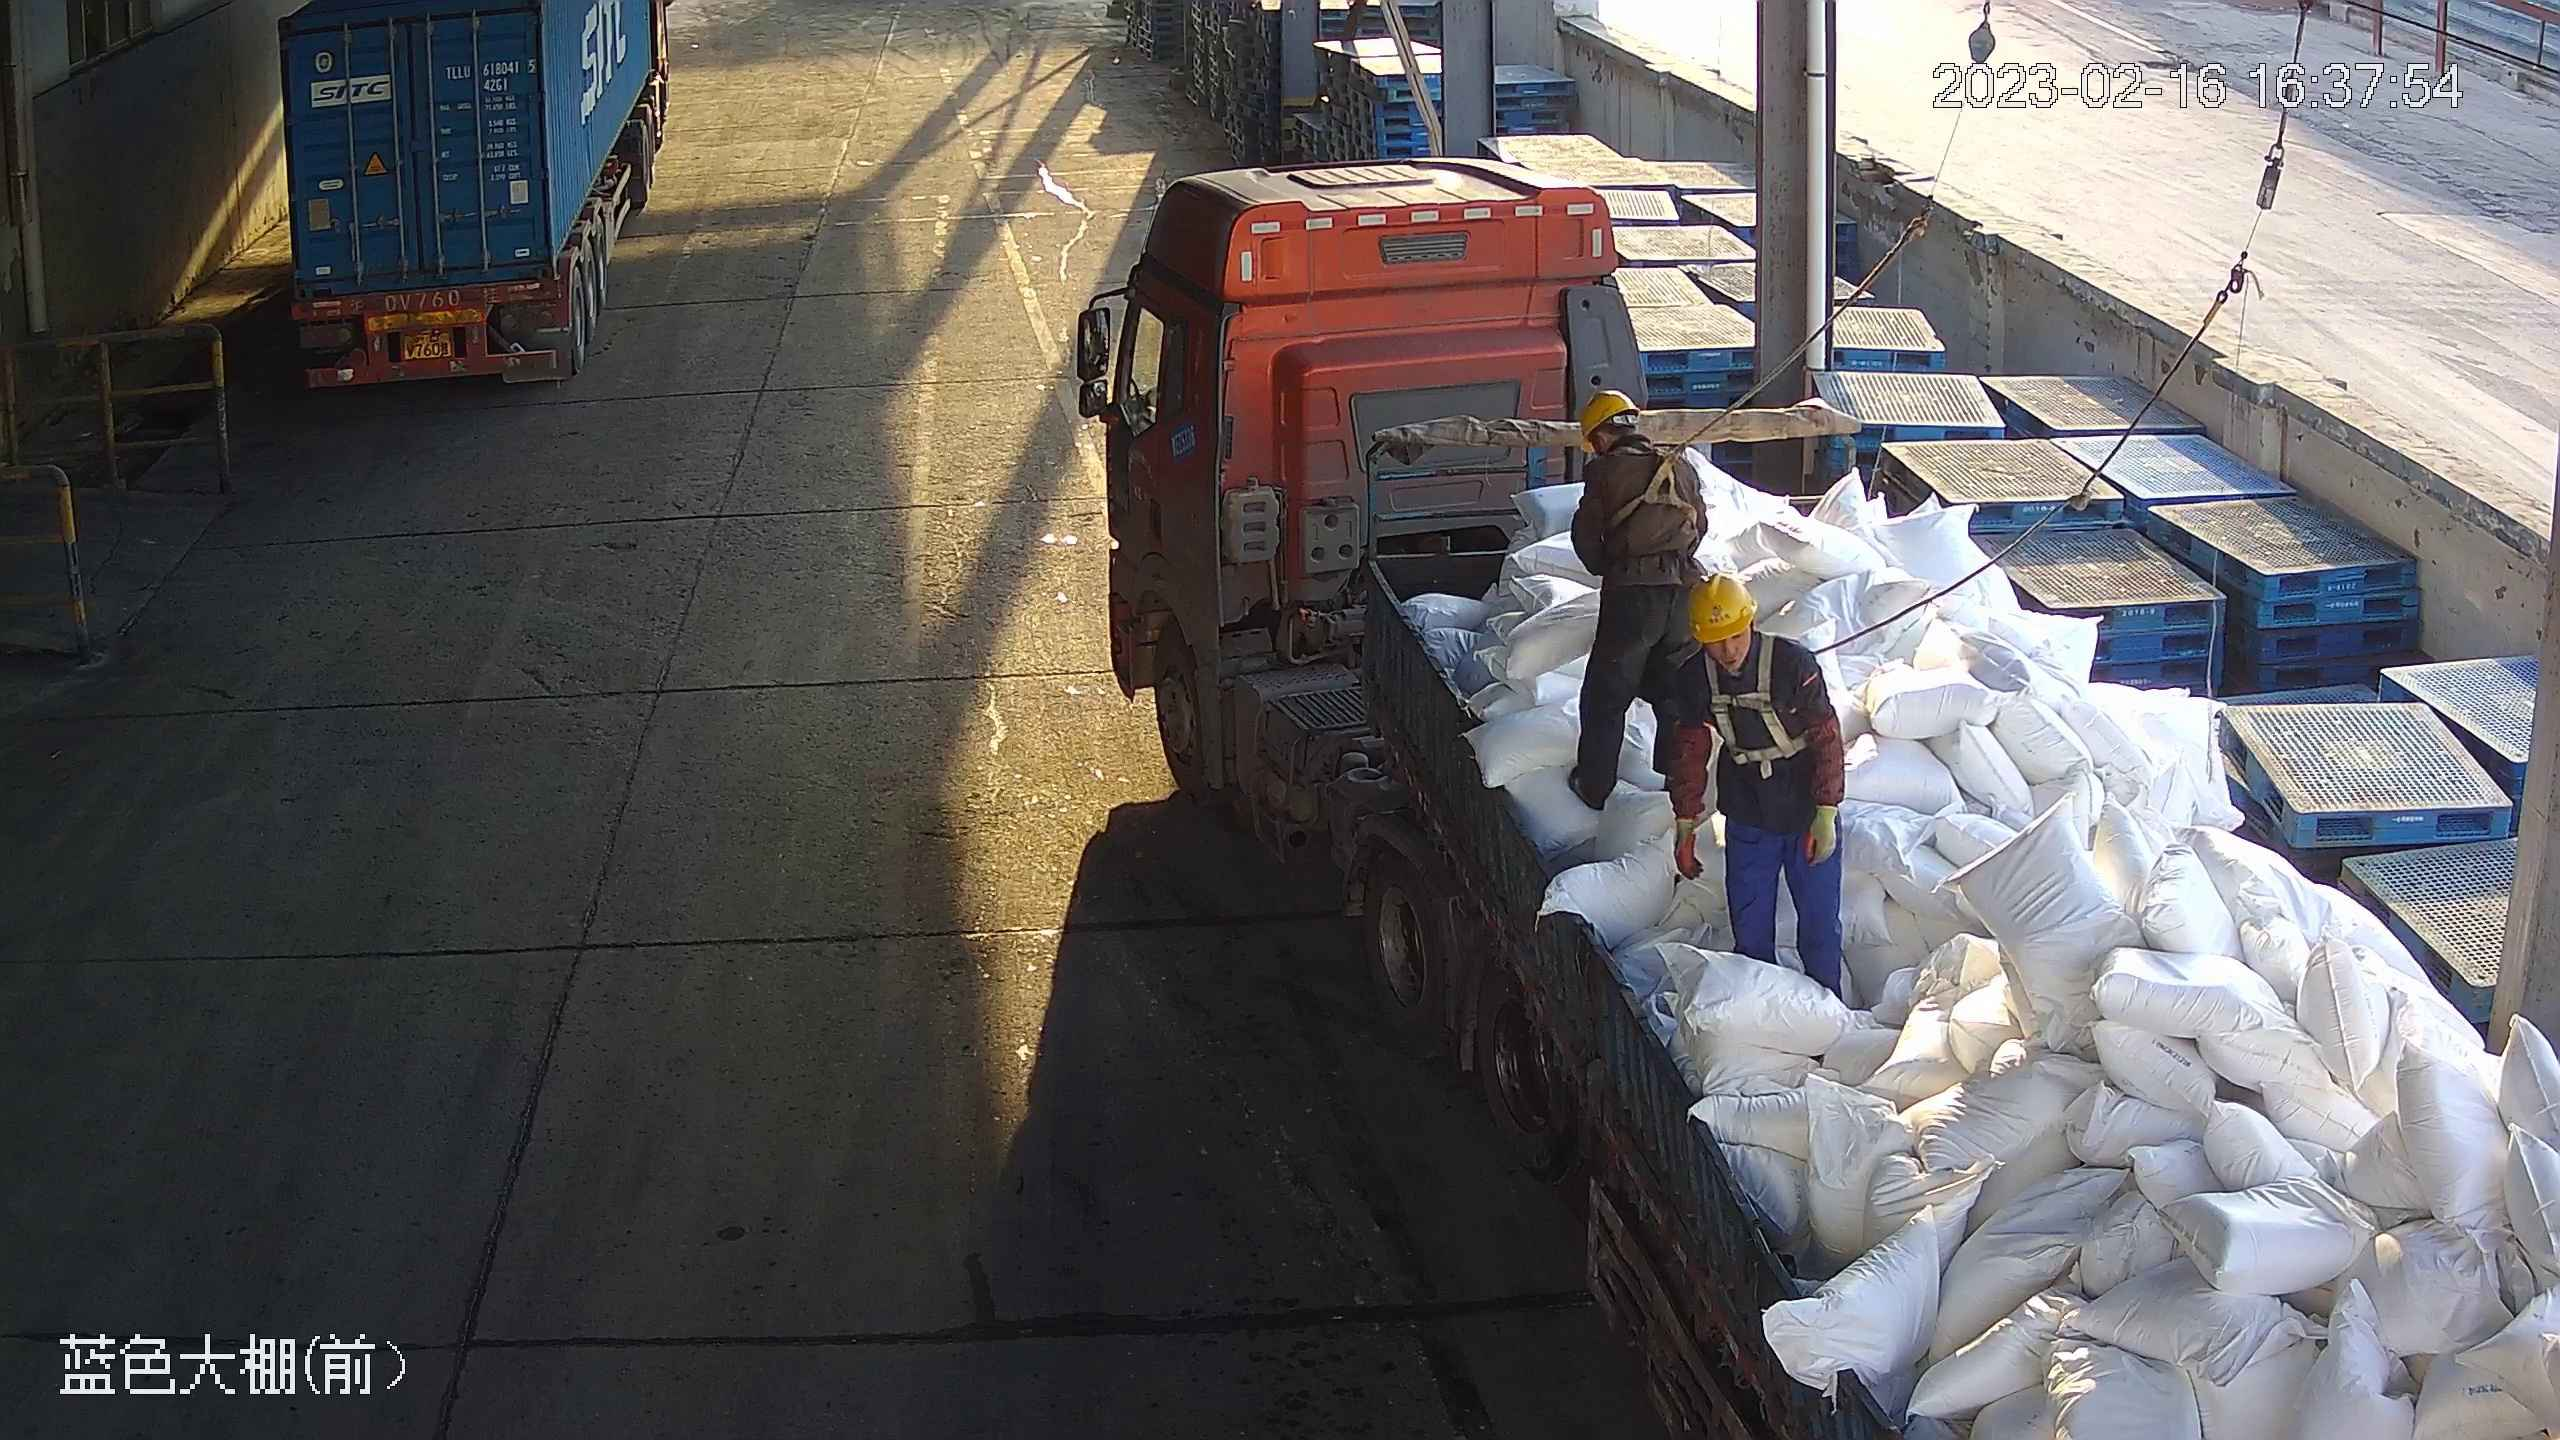belt: (1706, 632, 1809, 781), (1610, 443, 1698, 536)
head: (1666, 570, 1820, 709), (1578, 390, 1700, 513)
helmet: (1684, 572, 1758, 644), (1579, 388, 1642, 454)
people: (1666, 570, 1848, 1002), (1570, 388, 1709, 812)
truck: (1078, 157, 2560, 1440), (276, 1, 667, 394)
